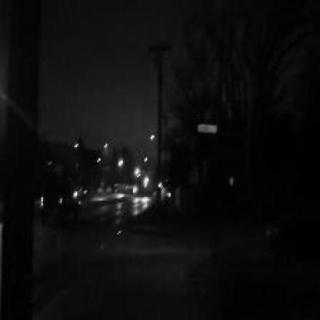other: (112, 156, 144, 200)
